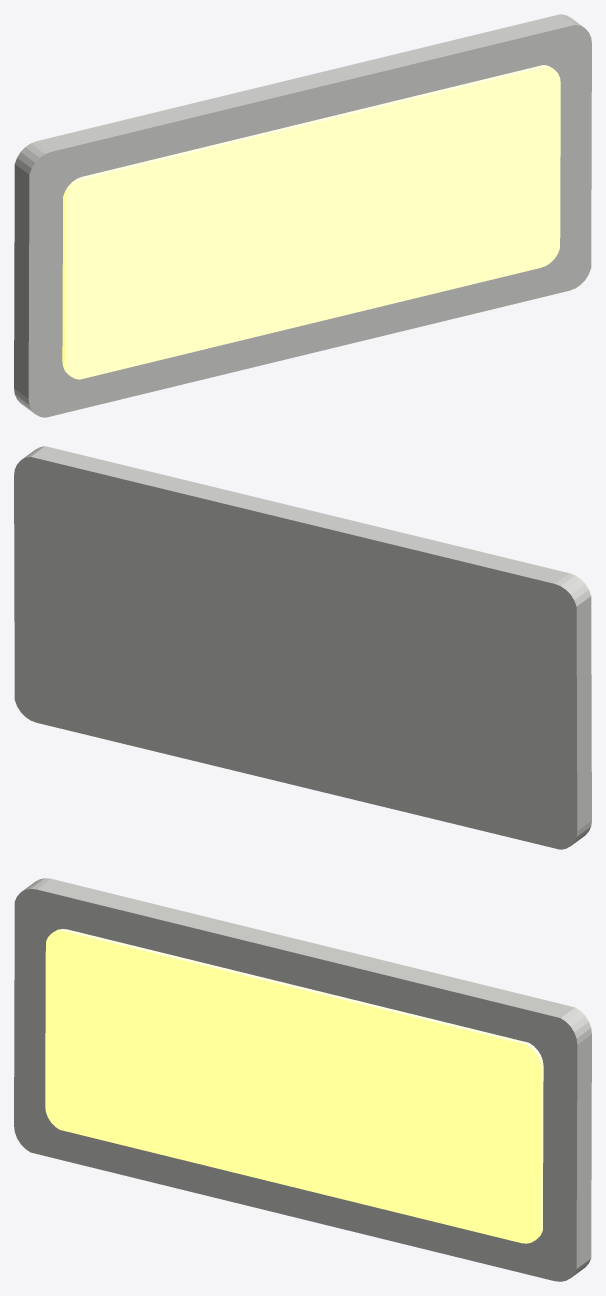
The model's file is LIGHT_CEILING_PANEL_001.glb.
3 renders of one model, top to bottom at view 1: azimuth 30°, elevation 25°; view 2: azimuth 150°, elevation 25°; view 3: azimuth 330°, elevation 25°, orthographic.
Parts seen in each view (by area): view 1: emissive_diffuser_001, light_panel_000; view 2: light_panel_000; view 3: emissive_diffuser_001, light_panel_000.
Part boxes in pixels (x1,y1,x2,y2): emissive_diffuser_001: [62, 65, 560, 379]; light_panel_000: [14, 14, 591, 417]; light_panel_000: [14, 446, 591, 849]; emissive_diffuser_001: [45, 929, 543, 1243]; light_panel_000: [14, 878, 591, 1281].
Bounding box in the file's own units: 1 × 0.45 × 0.053.
